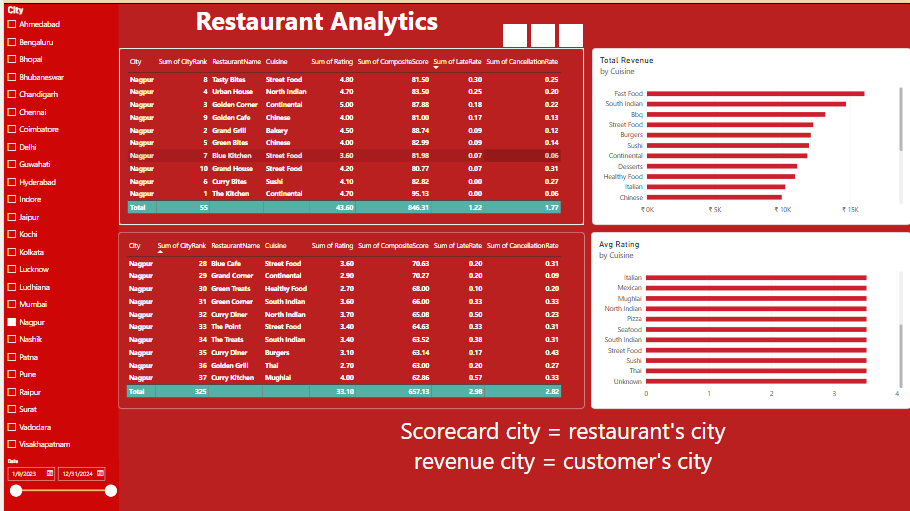

What the dashboard file says about the page in this screenshot:
{"tool":"powerbi","page":{"name":"Restaurant Analytics","canvas":[1920,1080],"ordinal":2},"visuals":[{"type":"slicer","fields":{"Values":["Cities.City"]},"box":[0,2.2,242.4,961.9],"z":0},{"type":"slicer","fields":{"Values":["Date.Date"]},"box":[0,961.9,242.4,116.4],"z":1000},{"type":"textbox","box":[241.9,0,1675.9,94.6],"z":2000},{"type":"tableEx","fields":{"Values":["RestaurantScores.City","Sum(RestaurantScores.CityRank)","RestaurantScores.RestaurantName","RestaurantScores.Cuisine","Sum(RestaurantScores.Rating)","Sum(RestaurantScores.CompositeScore)","Sum(RestaurantScores.LateRate)","Sum(RestaurantScores.CancellationRate)"]},"box":[248.5,167.1,983.3,374.3],"z":3000},{"type":"tableEx","fields":{"Values":["RestaurantScores.City","Sum(RestaurantScores.CityRank)","RestaurantScores.RestaurantName","RestaurantScores.Cuisine","Sum(RestaurantScores.Rating)","Sum(RestaurantScores.CompositeScore)","Sum(RestaurantScores.LateRate)","Sum(RestaurantScores.CancellationRate)"]},"box":[244.1,587.2,987.5,374.3],"z":4000},{"type":"clusteredBarChart","fields":{"Category":["Restaurants.Cuisine"],"Y":["_Measures.Total Revenue"]},"box":[1240.4,167.1,674.5,374.3],"z":4001},{"type":"clusteredBarChart","fields":{"Category":["Restaurants.Cuisine"],"Y":["_Measures.Avg Rating"]},"box":[1240.4,587.2,676.7,374.3],"z":4002},{"type":"cardVisual","fields":{"Data":["_Measures.Help"]},"box":[807.1,640,1108.5,321.1],"z":4003}]}

Visuals, with their boxes in screenshot pixels (x1, y1, x2, y2), scaled from the page's 1920x1080 canvas onto the 910x511 screenshot:
slicer - Cities.City: crop(0, 1, 115, 456)
slicer - Date.Date: crop(0, 455, 115, 510)
textbox: crop(115, 0, 909, 45)
tableEx - RestaurantScores.City x Sum(RestaurantScores.CityRank): crop(118, 79, 584, 256)
tableEx - RestaurantScores.City x Sum(RestaurantScores.CityRank): crop(116, 278, 584, 455)
clusteredBarChart - Restaurants.Cuisine x _Measures.Total Revenue: crop(588, 79, 908, 256)
clusteredBarChart - Restaurants.Cuisine x _Measures.Avg Rating: crop(588, 278, 909, 455)
cardVisual - _Measures.Help: crop(383, 303, 908, 455)
